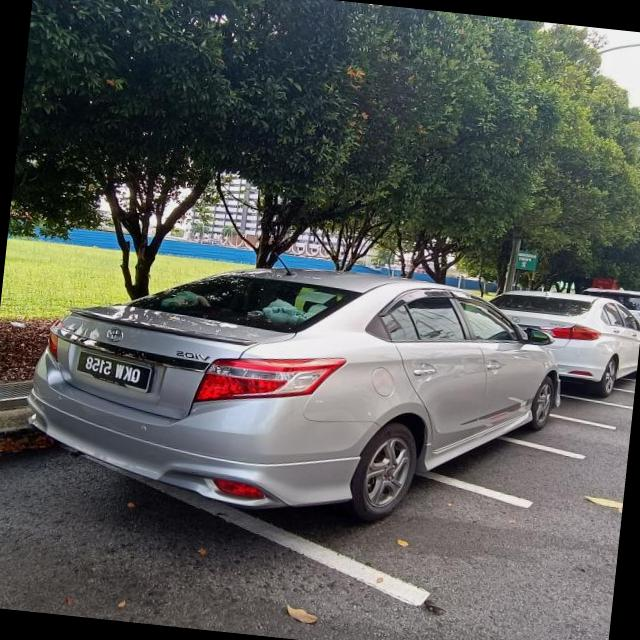ToyotaVios: (16, 236, 573, 542)
